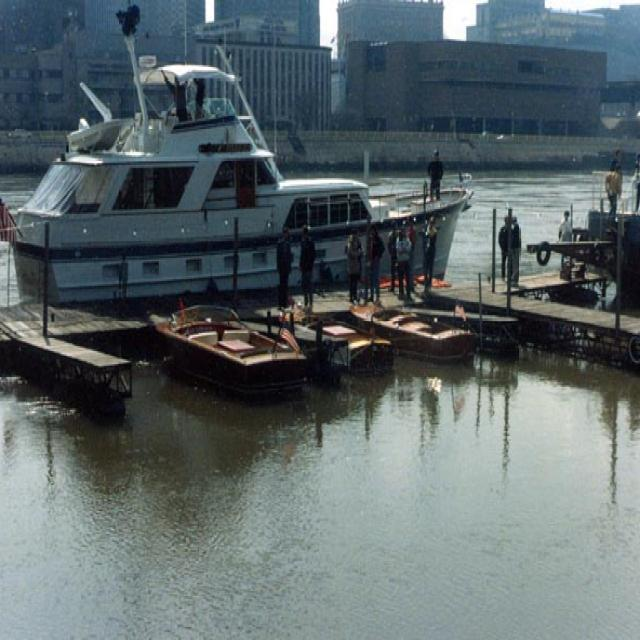houseboat: (12, 56, 466, 310)
